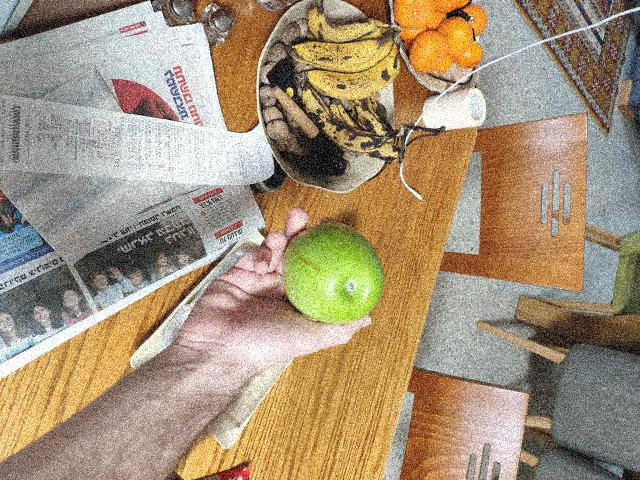apple: (281, 226, 390, 325)
